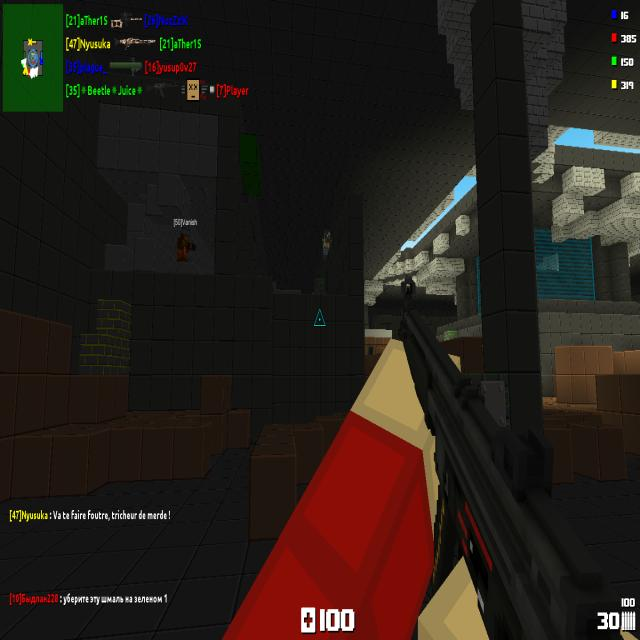enemy: (322, 229, 332, 260)
